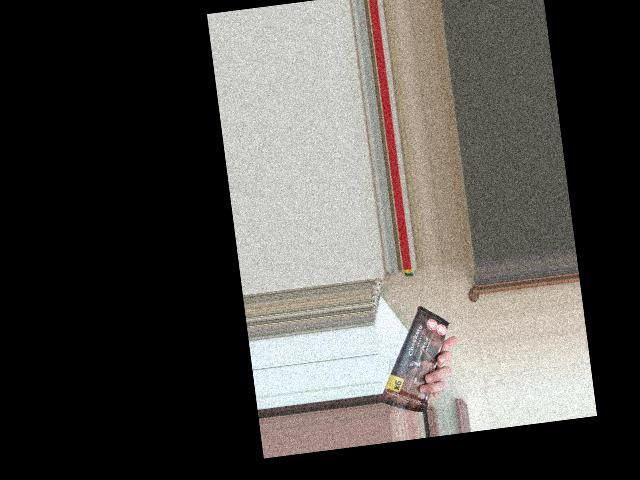chocolate: (371, 298, 457, 409)
